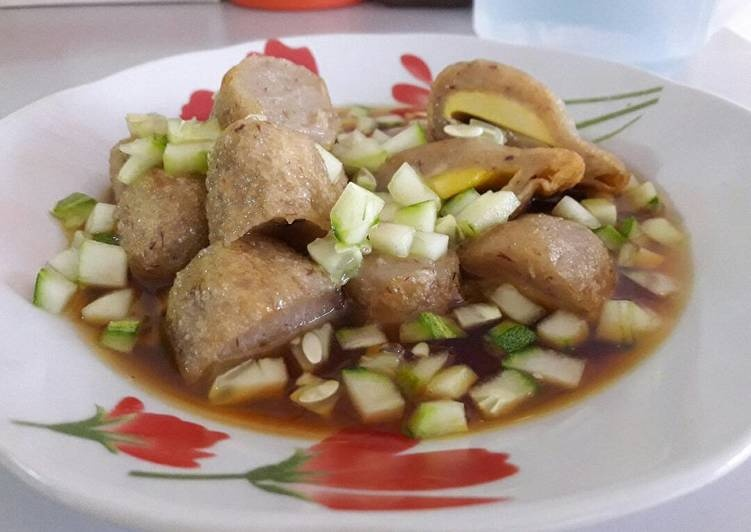pempek: (108, 52, 635, 383)
